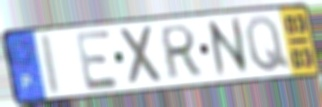E: (73, 27, 121, 93)
I: (41, 31, 63, 98)
N: (204, 15, 253, 81)
Q: (242, 14, 292, 74)
R: (159, 22, 203, 82)
X: (117, 23, 166, 88)
